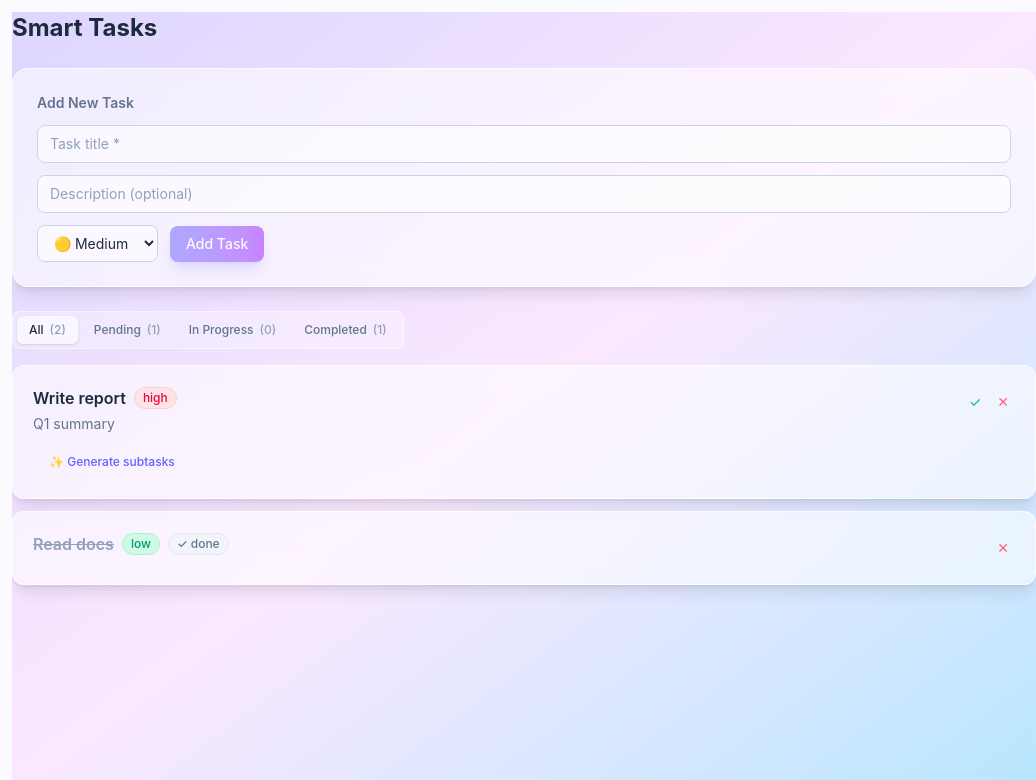
Test case: Tasks page — tab filtering › filters to show only completed tasks on completed tab
Expected: the heading "Read docs" is shown, [33,532,114,556]
Click the button "completed(1)". click: {"x": 345, "y": 330}
box: [292,316,399,344]
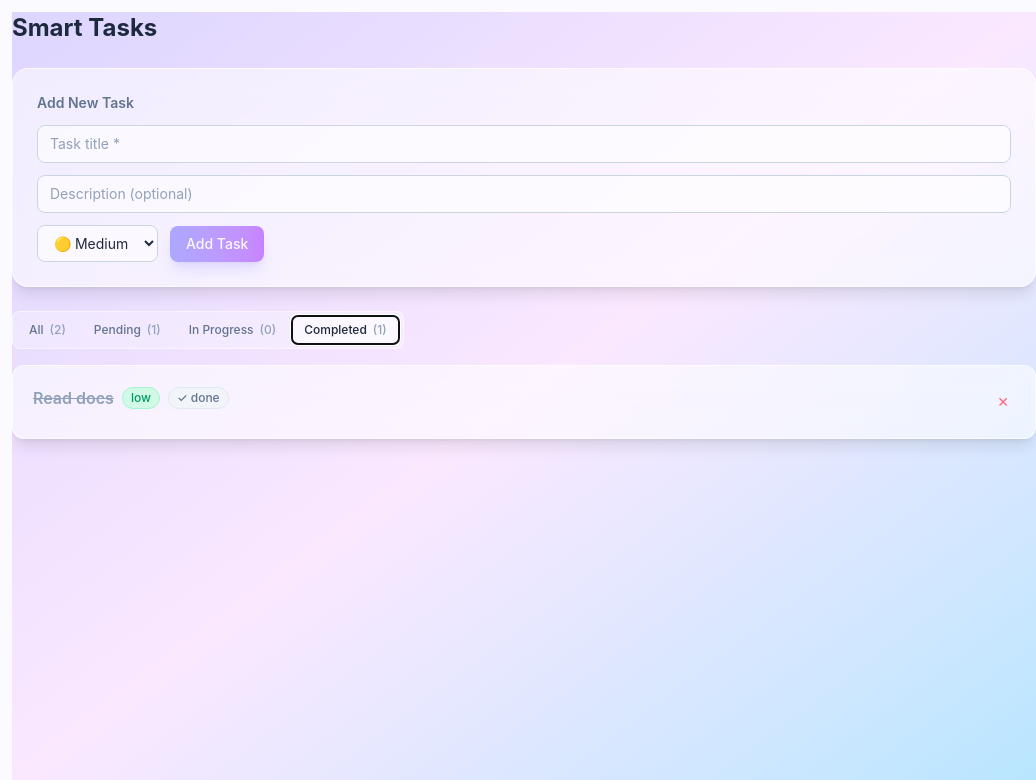
Expected: the heading "Read docs" is shown, [33,386,114,410]
Result: the heading "Write report" is gone
